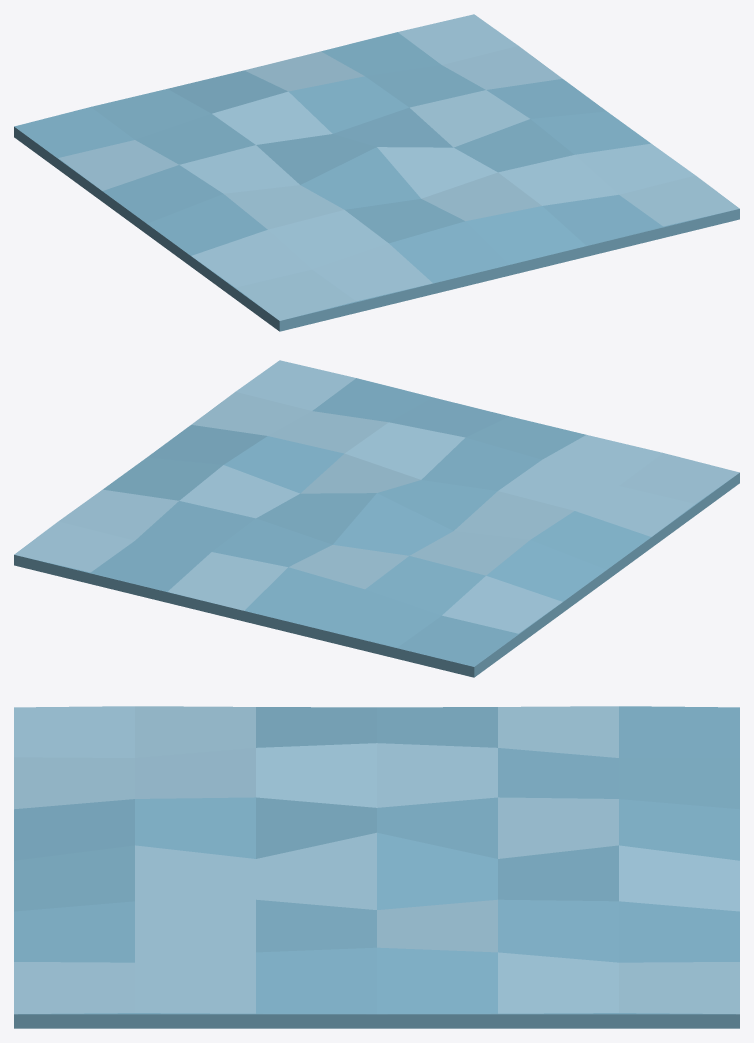
The model's file is animprop_water_05.glb.
3 renders of one model, top to bottom at view 1: azimuth 30°, elevation 25°; view 2: azimuth 150°, elevation 25°; view 3: azimuth 270°, elevation 25°, orthographic. The views are drawn at different scales.
Visible parts, largest first — view 1: animprop; view 2: animprop; view 3: animprop.
Part boxes in pixels (x1,y1,x2,y2): animprop: (14,14,739,331); animprop: (14,360,739,677); animprop: (14,706,739,1028).
Size of the model in its own units: 1.8 by 0.1168 by 1.8.
